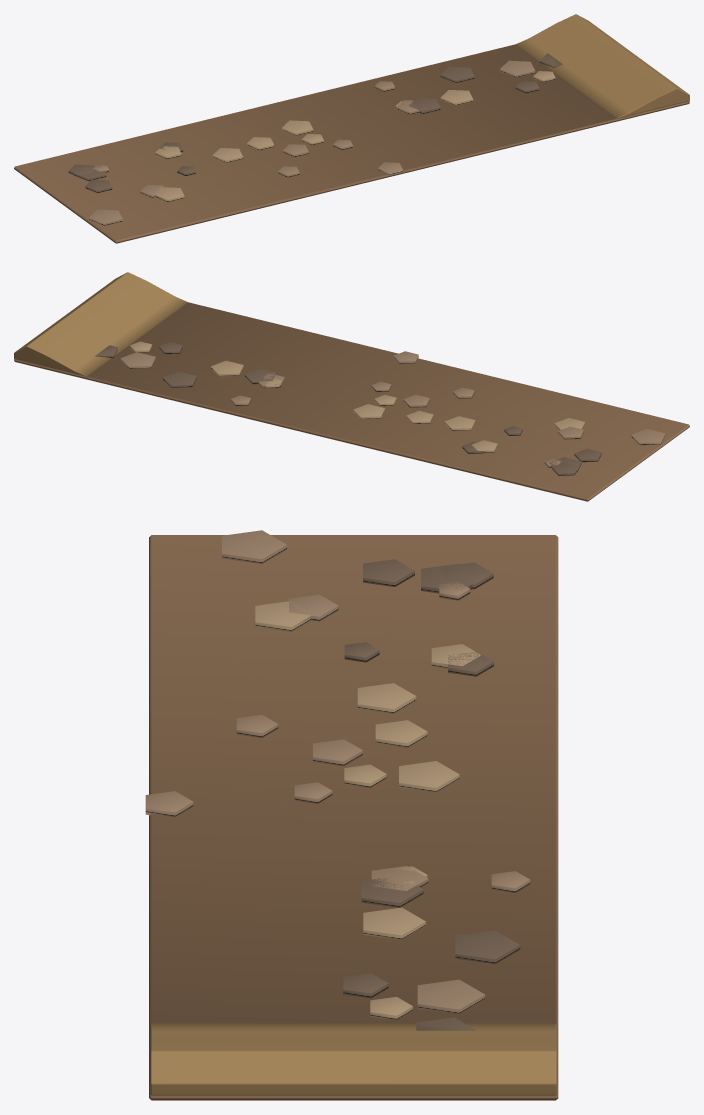
File: gravel_bed.glb
3 renders of one model, top to bottom at view 1: azimuth 30°, elevation 25°; view 2: azimuth 150°, elevation 25°; view 3: azimuth 270°, elevation 25°, orthographic. The views are drawn at different scales.
Visible parts, largest first — view 1: Gravel bed; view 2: Gravel bed; view 3: Gravel bed.
Part boxes in pixels (left/top/right/bottom): Gravel bed: left=14, top=14, right=689, bottom=243; Gravel bed: left=14, top=272, right=689, bottom=501; Gravel bed: left=145, top=530, right=558, bottom=1100.
Bounding box in the file's own units: 12 × 0.3778 × 3.73.
